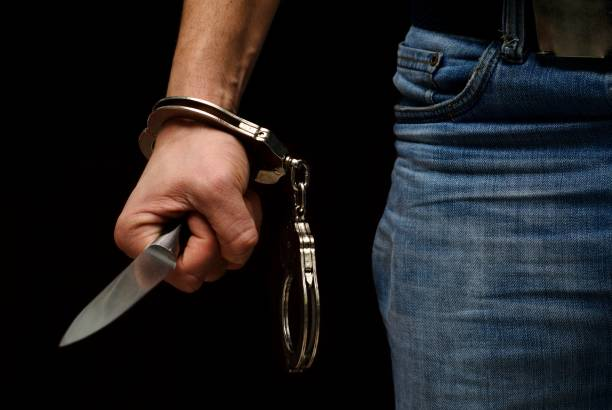knife: (57, 213, 191, 347)
